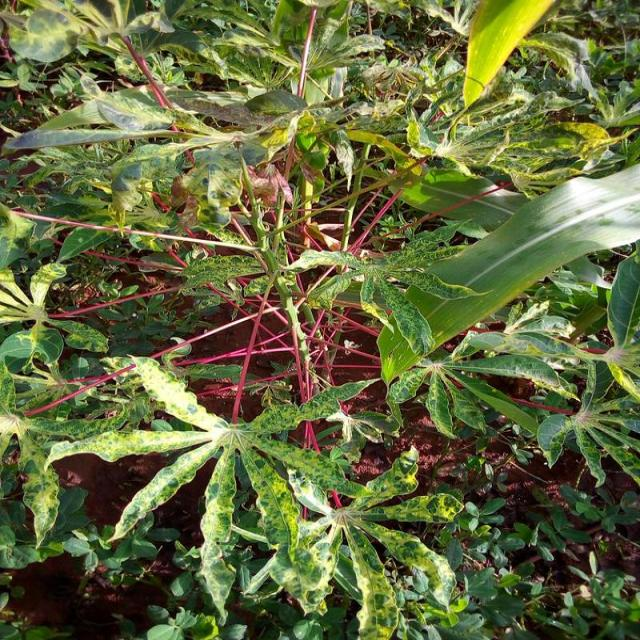cassava leaf: (371, 159, 638, 389)
